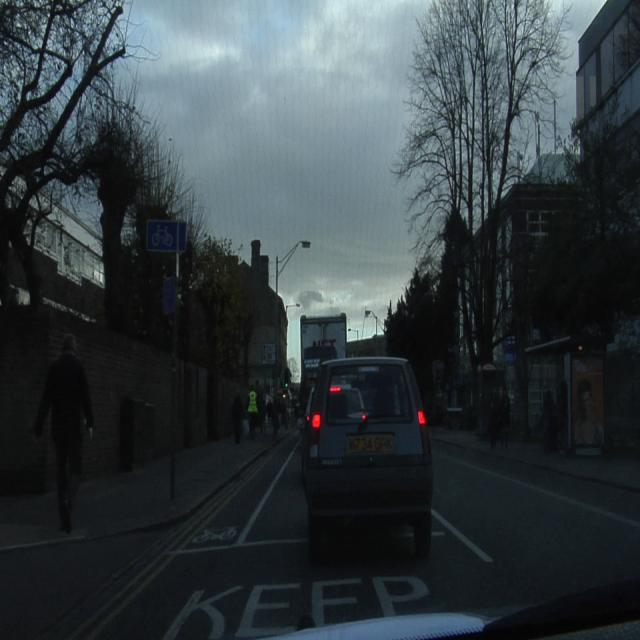Building: (0, 188, 170, 492), (240, 240, 288, 394), (178, 360, 238, 448)
Car: (300, 358, 433, 553)
Road: (5, 437, 639, 635)
Tree: (395, 0, 566, 368), (0, 0, 126, 248), (528, 122, 640, 342), (86, 103, 145, 331), (192, 235, 242, 378), (385, 268, 436, 398)
person: (35, 336, 92, 530)
